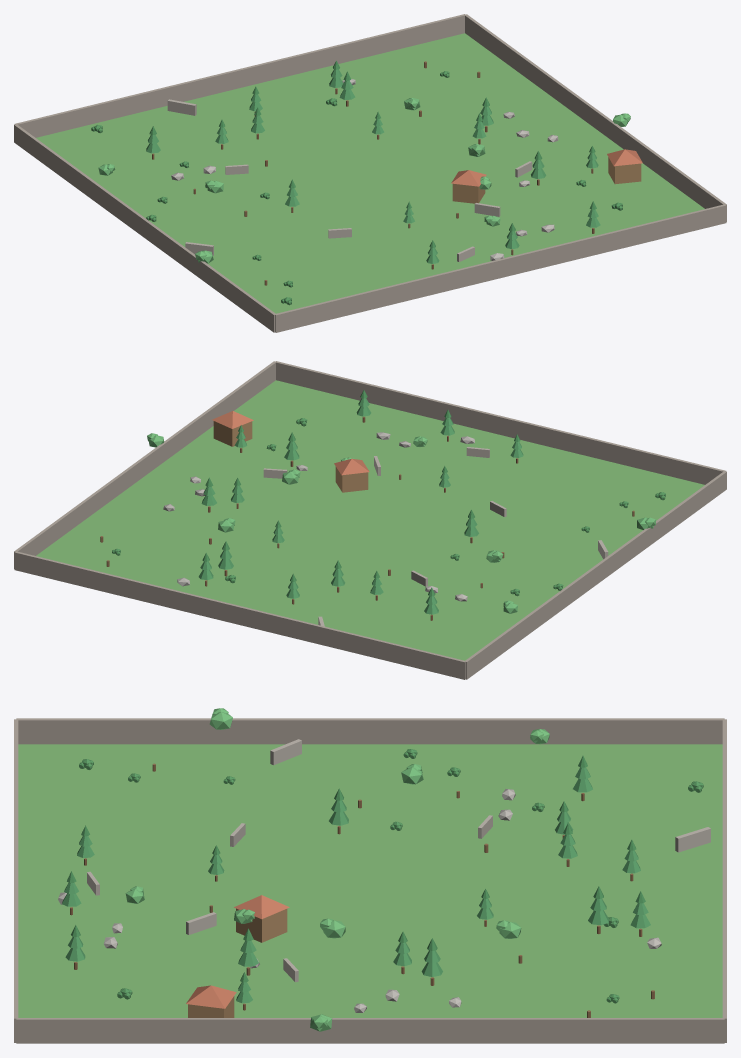
File: map.glb
3 views of the same model, one above another, from view 1: azimuth 30°, elevation 25°; view 2: azimuth 150°, elevation 25°; view 3: azimuth 270°, elevation 25° (orthographic). The views are drawn at different scales.
Parts seen in each view (by area): view 1: Ground, Wall_S, Wall_N, Wall_W, Wall_E, Shed.001, Shed; view 2: Ground, Wall_N, Wall_S, Wall_W, Wall_E, Shed.001, Shed; view 3: Ground, Wall_W, Wall_E, Wall_N, Wall_S, Shed, Roof.001, Roof, LowWall, Shed.001.
Part boxes in pixels (box(x1,y1,x2,y2)): Ground: box(36, 33, 704, 313); Wall_S: box(275, 204, 726, 332); Wall_N: box(14, 14, 465, 137); Wall_W: box(14, 124, 275, 332); Wall_E: box(465, 14, 726, 222); Shed.001: box(608, 157, 641, 184); Shed: box(452, 183, 485, 203); Ground: box(36, 380, 704, 660); Wall_N: box(14, 551, 465, 679); Wall_S: box(275, 361, 726, 484); Wall_W: box(465, 471, 726, 679); Wall_E: box(14, 361, 275, 569); Shed.001: box(213, 421, 252, 446); Shed: box(335, 466, 368, 492); Ground: box(18, 744, 722, 1017); Wall_W: box(16, 718, 724, 744); Wall_E: box(16, 1018, 724, 1043); Wall_N: box(722, 719, 726, 1042); Wall_S: box(14, 719, 18, 1042); Shed: box(236, 908, 287, 942); Roof.001: box(186, 985, 236, 1008); Roof: box(234, 895, 289, 919); LowWall: box(675, 827, 710, 852); Shed.001: box(188, 996, 234, 1017).
Bounding box in the file's own units: 83.67 × 6.91 × 80.5.
